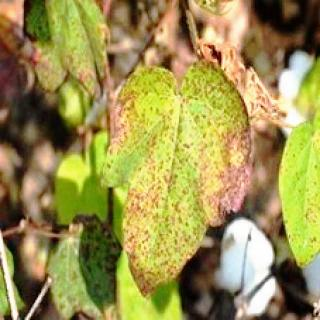leaf spot: (108, 61, 250, 296), (36, 32, 44, 34)
